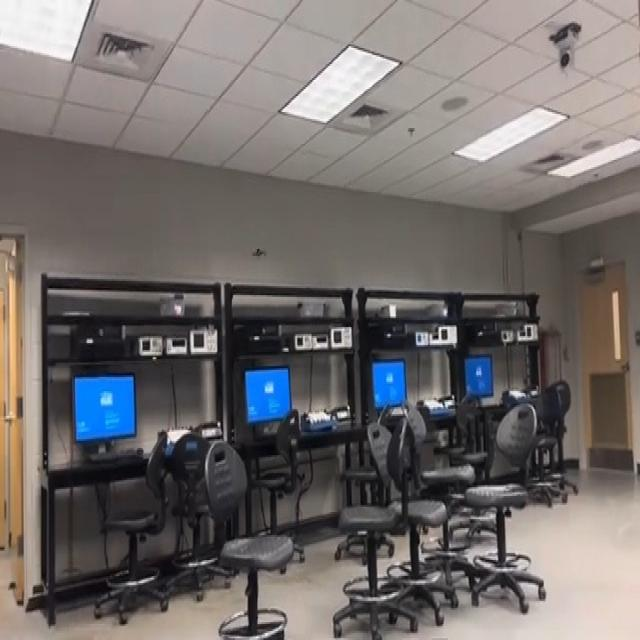drone: (242, 230, 274, 270)
